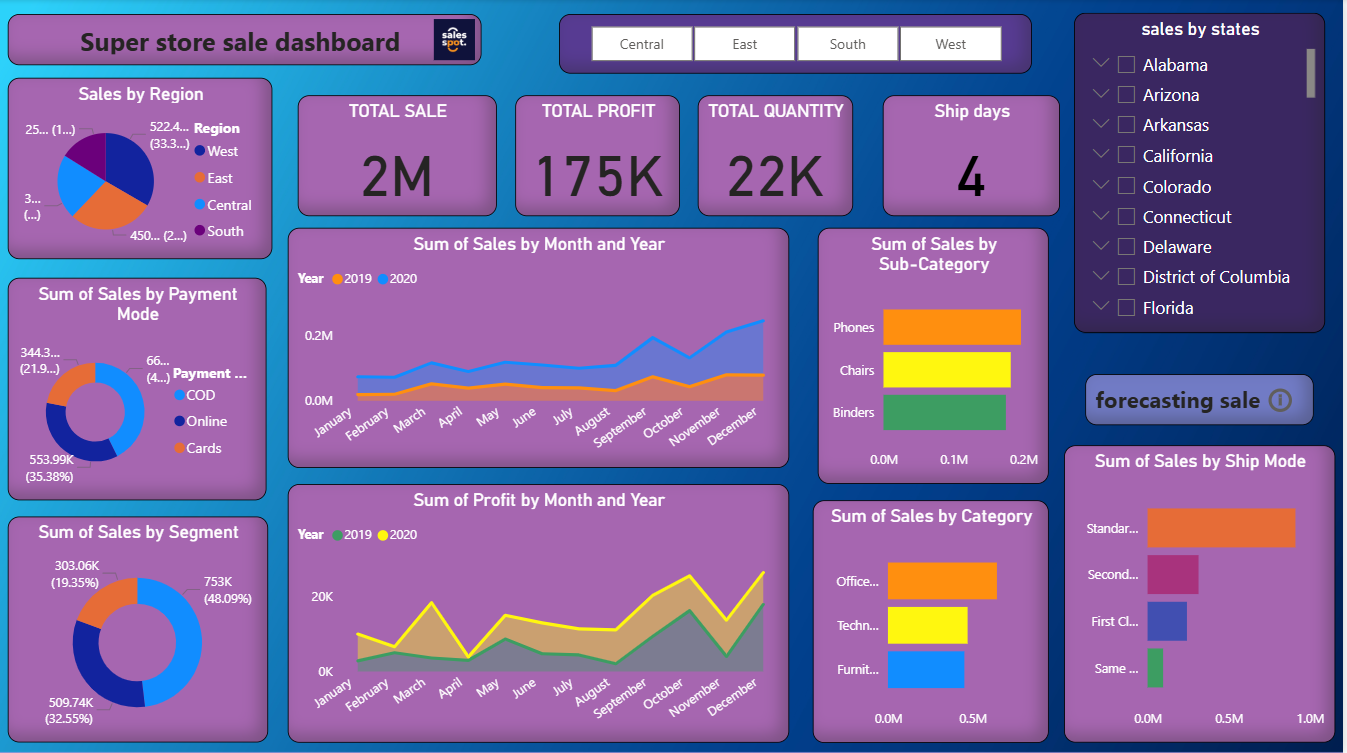

The page's visual inventory and layout, read from the dashboard file:
{"tool":"powerbi","page":{"name":"Page 1","canvas":[1280,720],"ordinal":0},"visuals":[{"type":"clusteredBarChart","fields":{"Y":["Sum(Sheet1.Sales)"],"Category":["Sheet1.Category"]},"box":[775,477.4,225,231],"z":0},{"type":"clusteredBarChart","fields":{"Y":["Sum(Sheet1.Sales)"],"Category":["Sheet1.Sub-Category"]},"box":[779.8,217.9,220.2,244],"z":1000},{"type":"clusteredBarChart","fields":{"Y":["Sum(Sheet1.Sales)"],"Category":["Sheet1.Ship Mode"]},"box":[1014.3,425,258.3,283.3],"z":2000},{"type":"stackedAreaChart","fields":{"Y":["Sum(Sheet1.Sales)"],"Category":["Sheet1.Order Date.Variation.Date Hierarchy.Month","Sheet1.Order Date.Variation.Date Hierarchy.Day"],"Series":["Sheet1.Order Date.Variation.Date Hierarchy.Year"]},"box":[275,217.9,477.4,228.6],"z":3000},{"type":"stackedAreaChart","fields":{"Category":["Sheet1.Order Date.Variation.Date Hierarchy.Month","Sheet1.Order Date.Variation.Date Hierarchy.Day"],"Series":["Sheet1.Order Date.Variation.Date Hierarchy.Year"],"Y":["Sum(Sheet1.Profit)"]},"box":[275,461.9,477.4,246.4],"z":4000},{"type":"slicer","title":"sales by states","fields":{"Values":["Sheet1.State","Sheet1.Sales"]},"box":[1023.8,13.1,239.3,304.8],"z":5000},{"type":"donutChart","fields":{"Category":["Sheet1.Segment"],"Y":["Sum(Sheet1.Sales)"]},"box":[8.3,492.9,247.6,215.5],"z":6000},{"type":"donutChart","fields":{"Y":["Sum(Sheet1.Sales)"],"Category":["Sheet1.Payment Mode"]},"box":[8.3,265.5,246.4,211.9],"z":7000},{"type":"slicer","fields":{"Values":["Sheet1.Region"]},"box":[533.3,14.3,450,57.1],"z":8000},{"type":"card","title":"TOTAL SALE","fields":{"Values":["Sum(Sheet1.Sales)"]},"box":[284.5,91.7,189.3,115.5],"z":9000},{"type":"card","title":"TOTAL QUANTITY","fields":{"Values":["Sum(Sheet1.Quantity)"]},"box":[665.5,91.7,147.6,115.5],"z":10000},{"type":"card","title":"TOTAL PROFIT","fields":{"Values":["Sum(Sheet1.Profit)"]},"box":[491.7,91.7,157.1,115.5],"z":11000},{"type":"card","title":"Ship days","fields":{"Values":["Avg(Sheet1.AvgDelivery)"]},"box":[841.7,91.7,169,115.5],"z":12000},{"type":"textbox","box":[8.3,14.3,451.2,48.8],"z":13000},{"type":"image","box":[384.5,14.3,98.8,48.8],"z":14000},{"type":"pieChart","title":"Sales by Region","fields":{"Category":["Sheet1.Region"],"Y":["Sum(Sheet1.Sales)"]},"box":[8.3,75,252.4,172.6],"z":15000},{"type":"textbox","box":[1034.5,357.1,217.9,48.8],"z":16000},{"type":"actionButton","box":[1204.8,366.7,31,31],"z":17000}]}

Visuals, with their boxes in screenshot pixels (x1, y1, x2, y2), scaled from the page's 1280x720 canvas onto the 1347x753 screenshot:
clusteredBarChart - Sum(Sheet1.Sales) x Sheet1.Category: bbox=[816, 499, 1052, 741]
clusteredBarChart - Sum(Sheet1.Sales) x Sheet1.Sub-Category: bbox=[821, 228, 1052, 483]
clusteredBarChart - Sum(Sheet1.Sales) x Sheet1.Ship Mode: bbox=[1067, 444, 1339, 741]
stackedAreaChart - Sum(Sheet1.Sales) x Sheet1.Order Date.Variation.Date Hierarchy.Month: bbox=[289, 228, 792, 467]
stackedAreaChart - Sheet1.Order Date.Variation.Date Hierarchy.Month x Sheet1.Order Date.Variation.Date Hierarchy.Day: bbox=[289, 483, 792, 741]
"sales by states" slicer: bbox=[1077, 14, 1329, 332]
donutChart - Sheet1.Segment x Sum(Sheet1.Sales): bbox=[9, 515, 269, 741]
donutChart - Sum(Sheet1.Sales) x Sheet1.Payment Mode: bbox=[9, 278, 268, 499]
slicer - Sheet1.Region: bbox=[561, 15, 1035, 75]
"TOTAL SALE" card: bbox=[299, 96, 499, 217]
"TOTAL QUANTITY" card: bbox=[700, 96, 856, 217]
"TOTAL PROFIT" card: bbox=[517, 96, 683, 217]
"Ship days" card: bbox=[886, 96, 1064, 217]
textbox: bbox=[9, 15, 484, 66]
image: bbox=[405, 15, 509, 66]
"Sales by Region" pieChart: bbox=[9, 78, 274, 259]
textbox: bbox=[1089, 373, 1318, 425]
actionButton: bbox=[1268, 384, 1300, 416]
